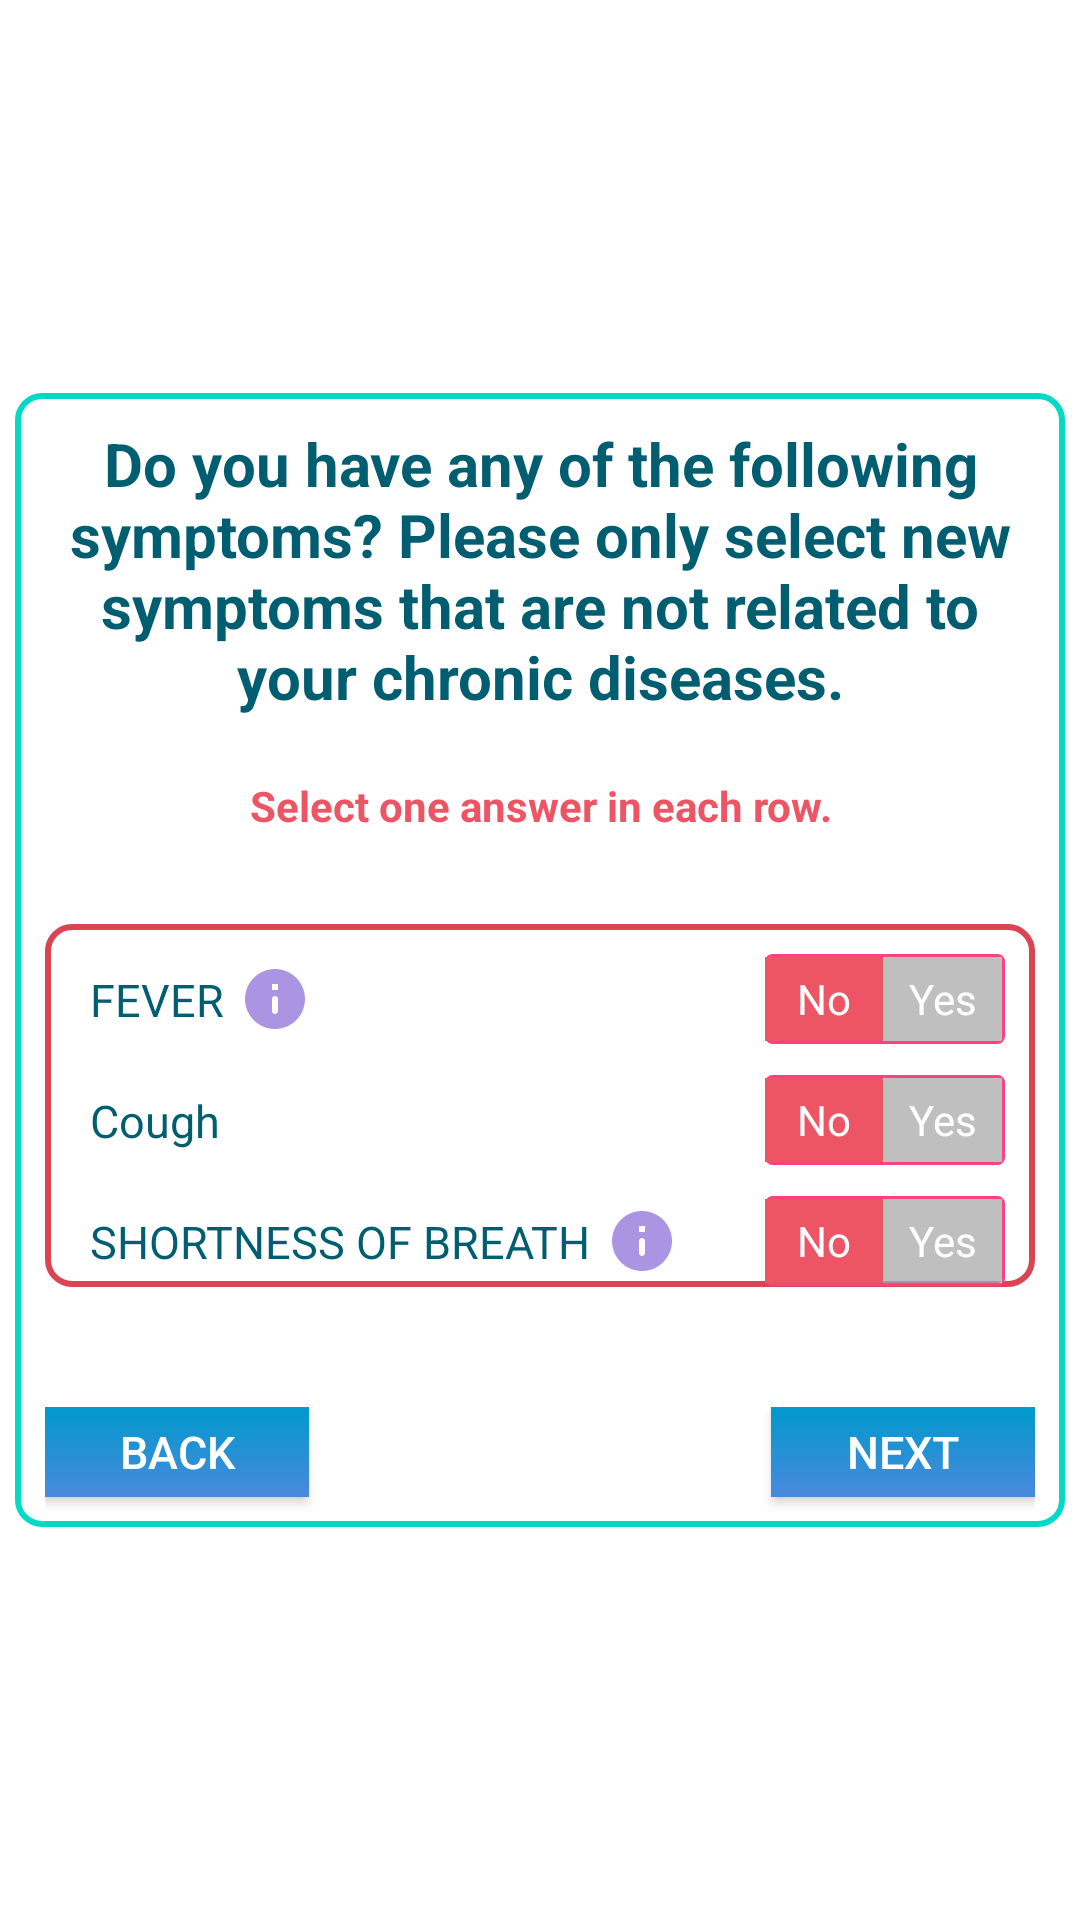

Icon click points for this 1080px x 1920px phone screenshot, format [x,y]:
moreinfo: [275,999], [642,1241]
